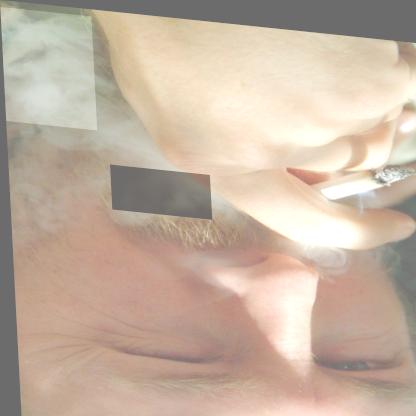smoke: (0, 7, 96, 128), (108, 162, 210, 215)
